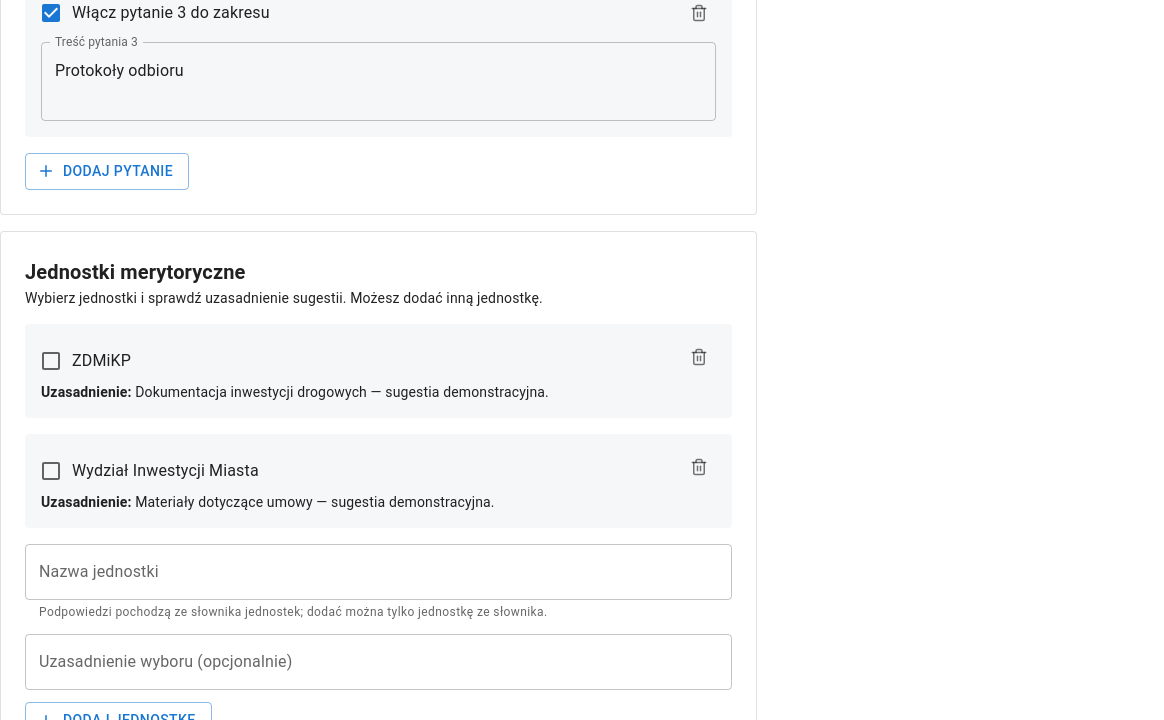
case analysis › does not repeat a status change the server already made
(page scrolled)
Click the checkbox named "Wybierz jednostkę ZDMiKP" at [85, 360], box top-left (39, 348), bottom-right (131, 372)
(page scrolled)
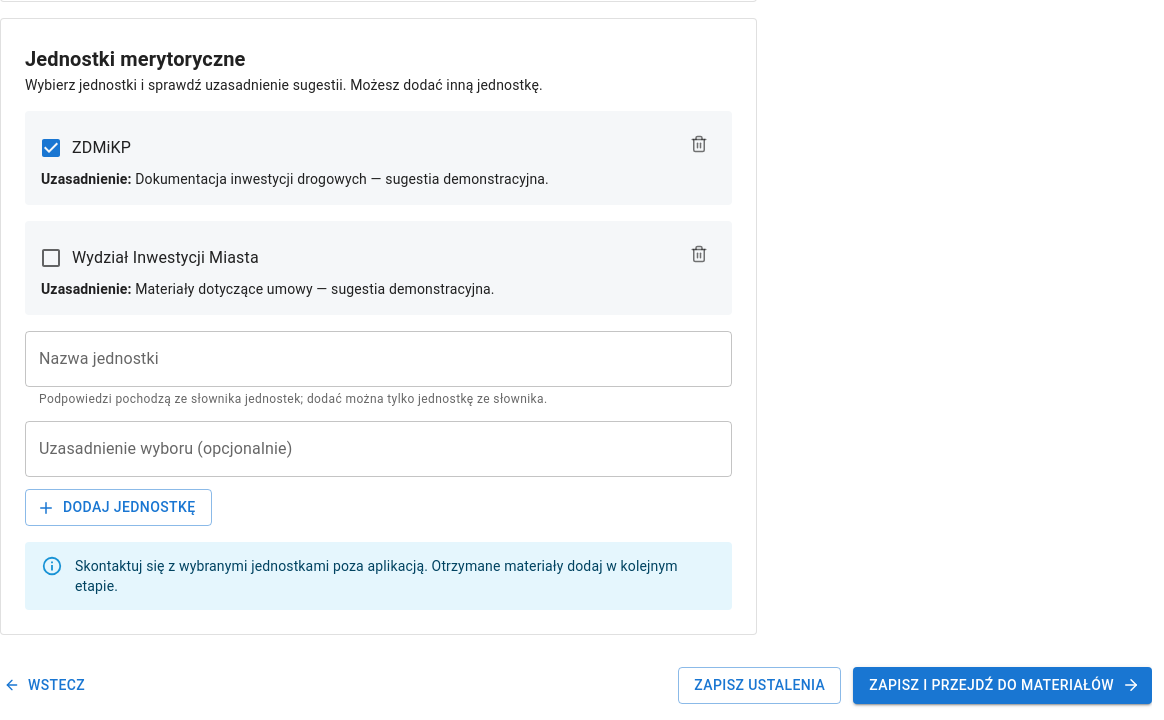
Click the button "Zapisz i przejdź do materiałów" at [1003, 685], box top-left (853, 667), bottom-right (1152, 704)
(page scrolled)
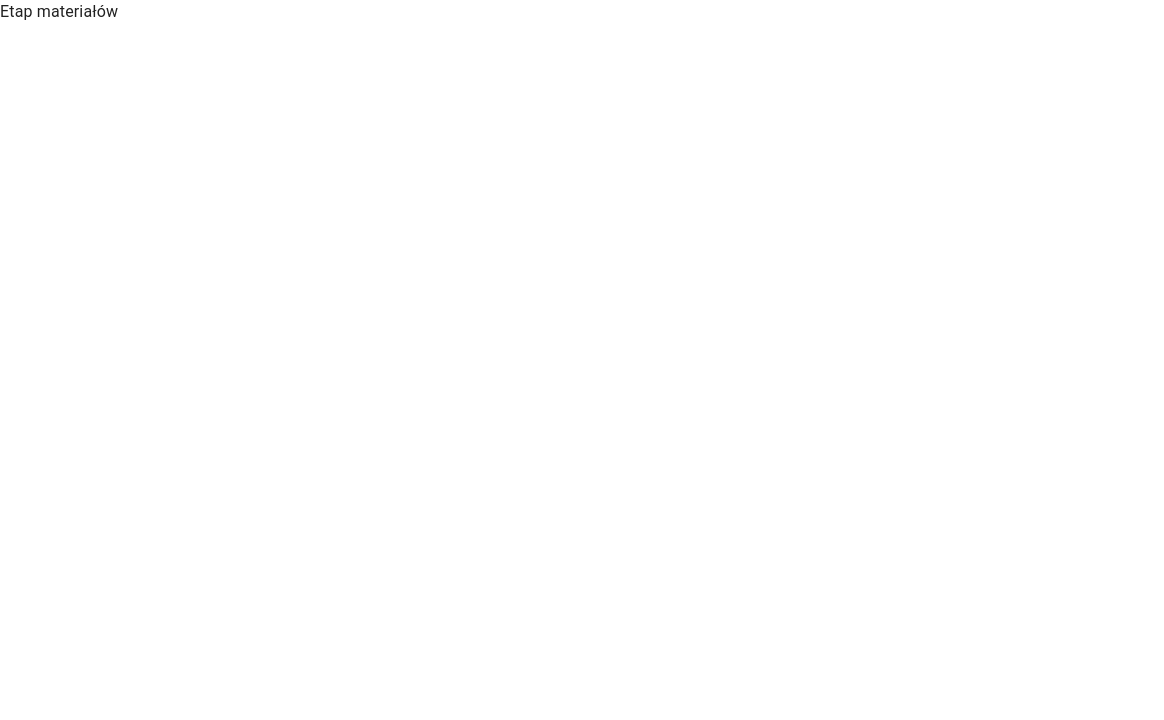
Expected: the text "Etap materiałów" is shown, top-left (0, 2), bottom-right (118, 21)
